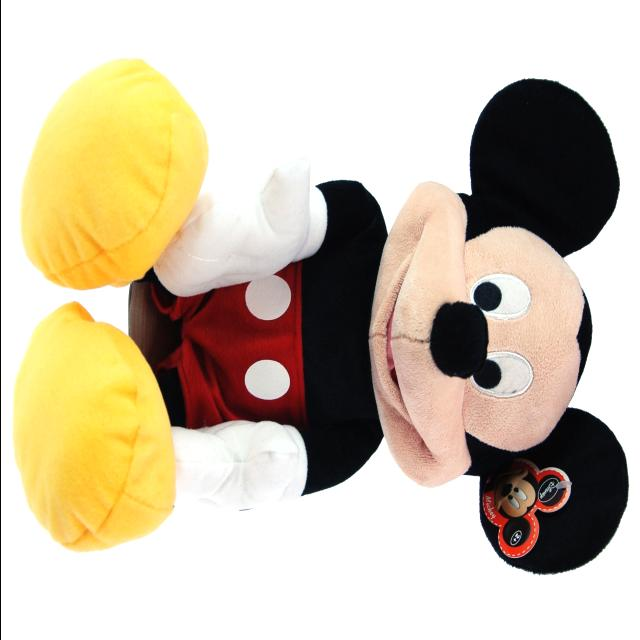mickey: (14, 61, 626, 572)
